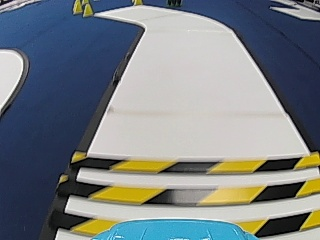bump: (45, 149, 319, 220)
